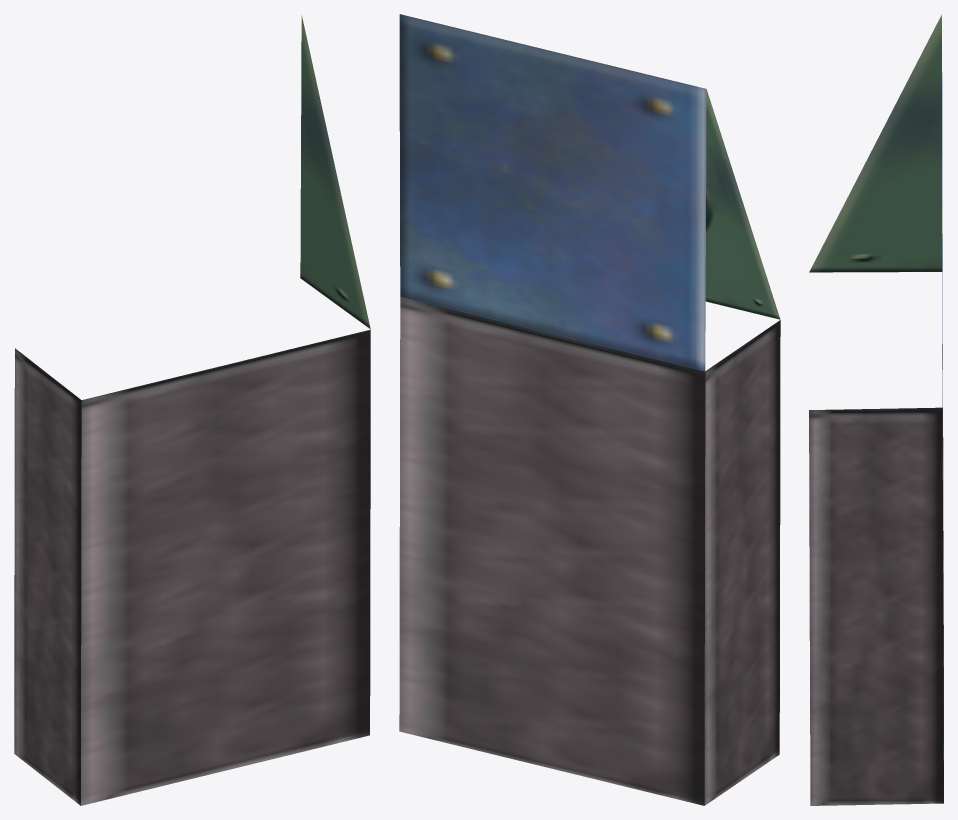
3 renders of one model, left to right at view 1: azimuth 30°, elevation 25°; view 2: azimuth 150°, elevation 25°; view 3: azimuth 270°, elevation 25°, orthographic. The views are drawn at different scales.
Parts seen in each view (by area): view 1: Object07; view 2: Object07; view 3: Object07.
Part boxes in pixels (x1,y1,x2,y2): Object07: (14, 15, 370, 805); Object07: (399, 14, 780, 805); Object07: (809, 14, 943, 805).
Bounding box in the file's own units: 55.82 × 124 × 23.16.
3 materials, 3 textured.
